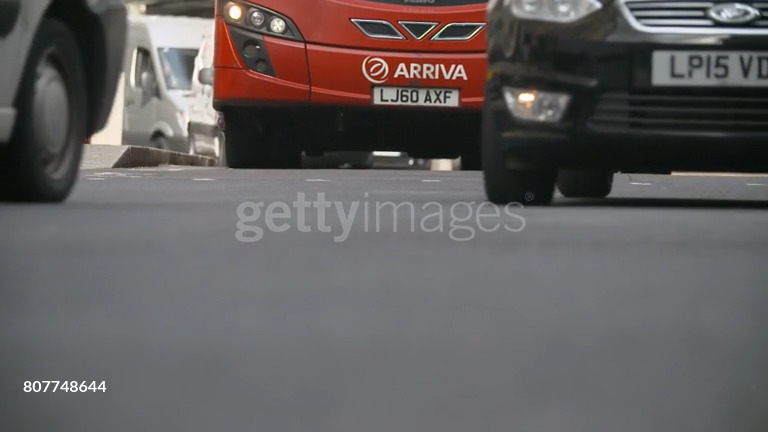car number: (650, 49, 766, 85), (372, 85, 459, 105)
